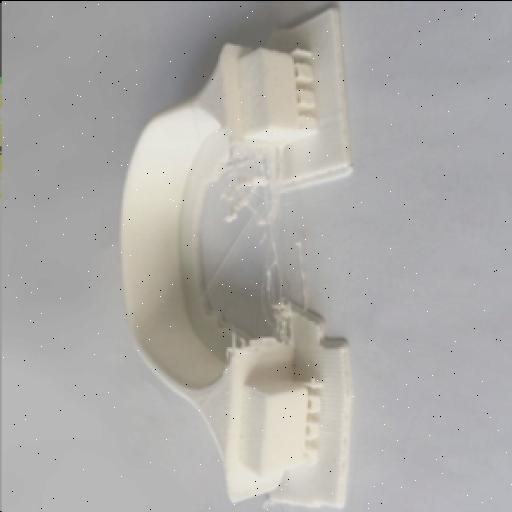stringing: (209, 173, 302, 297), (218, 324, 263, 352)
